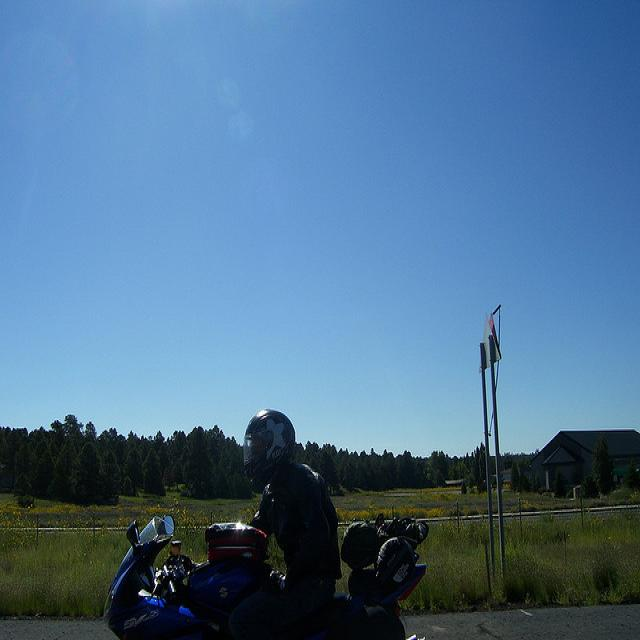motor: (102, 512, 293, 638), (307, 538, 428, 640)
